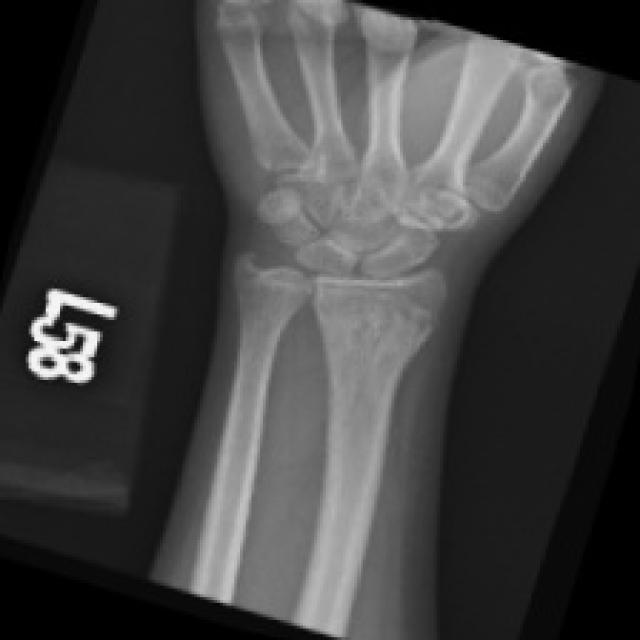fracture: (224, 194, 330, 342)
